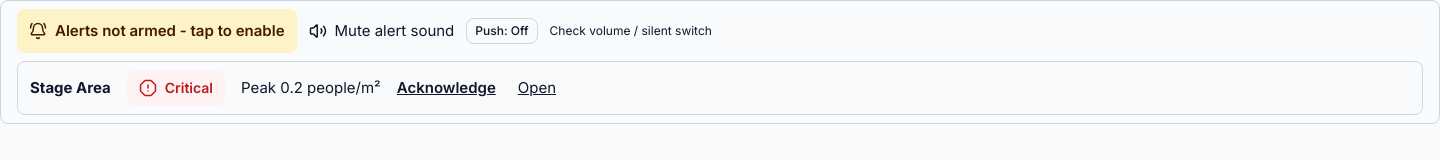
Test case: ArmAlertsButton, logout cleanup, test notification menu, and InstallHint › arms alerts and subscribes to Web Push on a single tap with 0 axe violations
Expected: the text "Push: Off" is shown, [466,18,538,44]
Click the button "Alerts not armed - tap to enable": {"x": 157, "y": 31} [17,9,296,53]
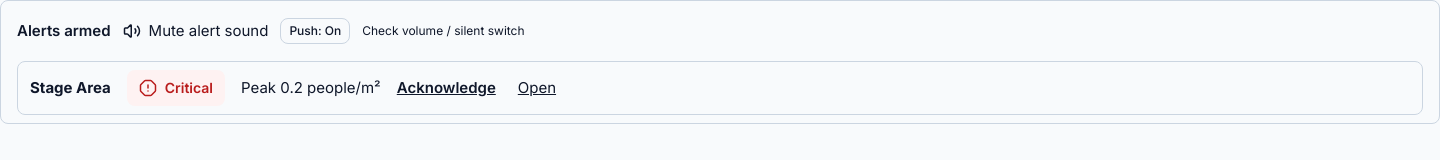
Now the text "Alerts armed" is shown, box [17,19,111,43]
Now the text "Push: On" is shown, box [280,18,350,44]
